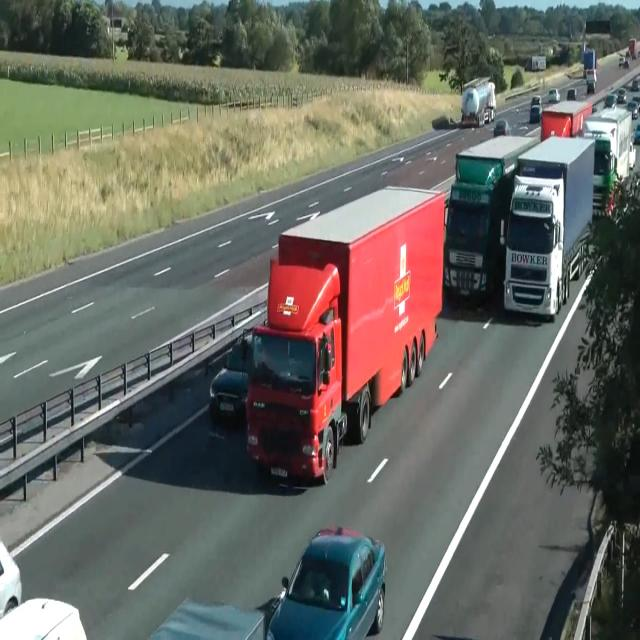bus: (266, 525, 386, 639), (148, 597, 266, 639), (209, 332, 253, 424), (0, 597, 87, 639), (0, 540, 22, 620), (494, 118, 511, 137), (611, 87, 627, 102), (626, 101, 639, 119), (529, 105, 541, 123), (603, 94, 617, 108), (548, 87, 560, 103), (530, 95, 542, 108), (633, 122, 639, 144), (632, 74, 640, 90), (618, 56, 628, 68), (567, 88, 577, 100), (632, 94, 640, 106)
car: (148, 524, 386, 638), (245, 257, 347, 485)
minibus: (245, 184, 446, 485), (503, 134, 595, 322), (443, 133, 539, 305), (582, 105, 636, 218), (540, 100, 593, 142), (460, 77, 496, 127), (583, 48, 597, 93), (524, 55, 546, 71), (628, 37, 640, 59)
